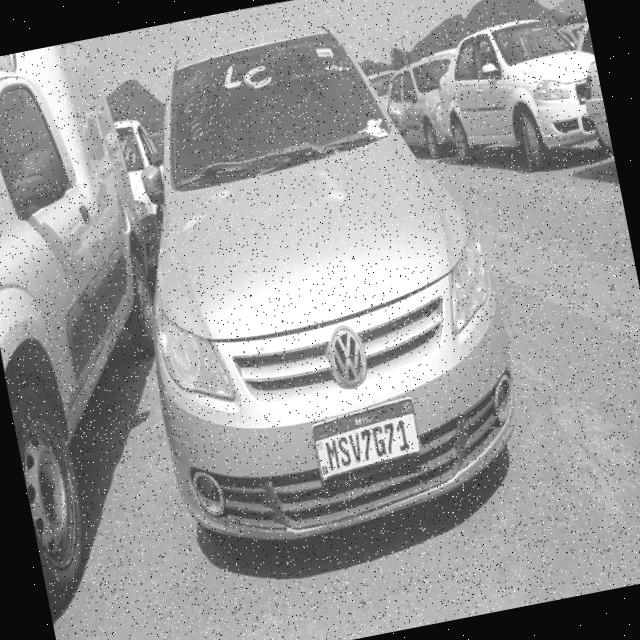Caractere: (323, 438, 341, 472), (346, 430, 364, 464), (382, 420, 400, 454), (358, 428, 375, 462), (369, 424, 386, 458), (394, 418, 411, 452), (335, 436, 352, 468)
